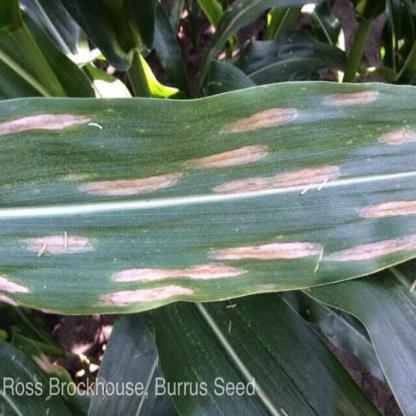Corn leaf blight: (2, 76, 416, 312)
